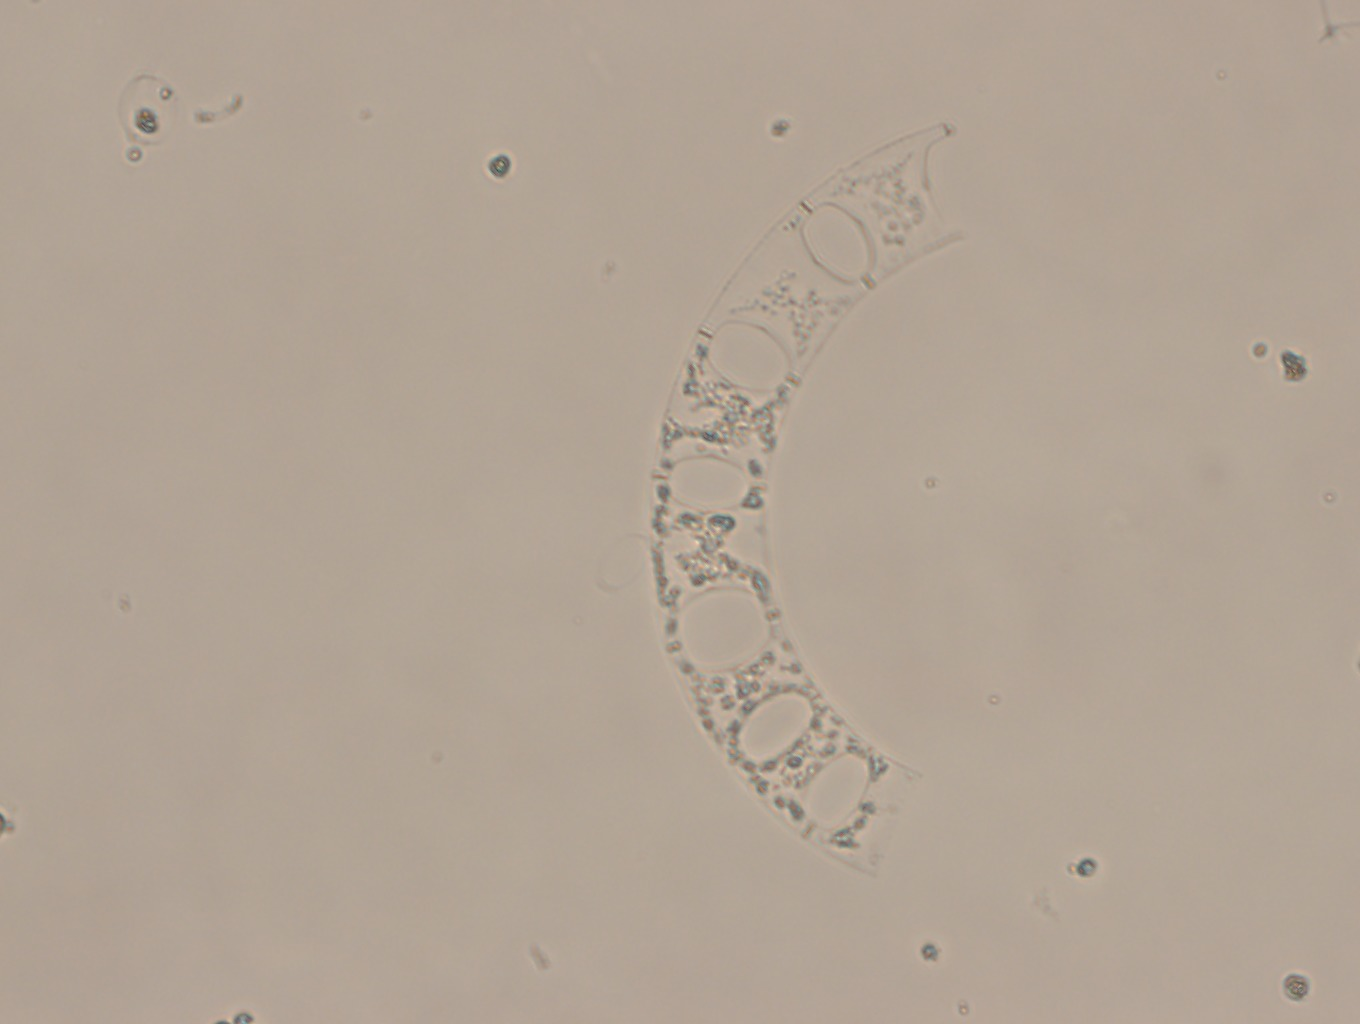eucampia: (635, 116, 965, 870)
